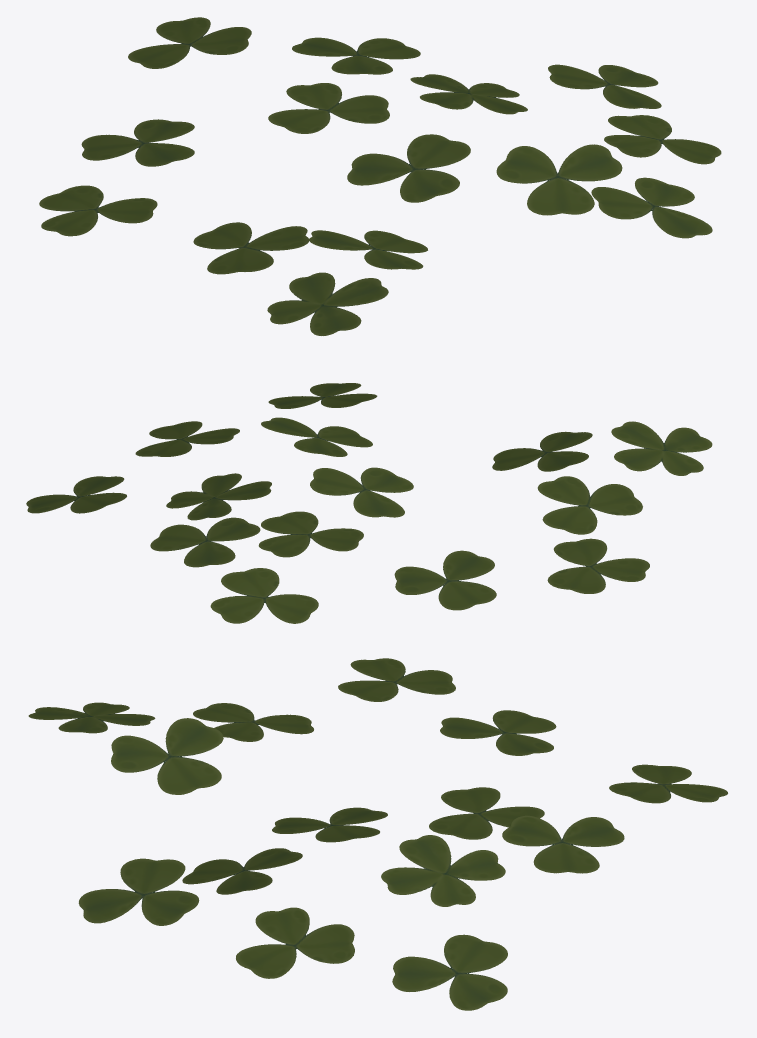
File: MSH_fwOF_Clover_03.fbx
3 renders of one model, top to bottom at view 1: azimuth 30°, elevation 25°; view 2: azimuth 150°, elevation 25°; view 3: azimuth 270°, elevation 25°, orthographic. The views are drawn at different scales.
Parts seen in each view (by area): view 1: MSH_fwOF_Clover_03; view 2: MSH_fwOF_Clover_03; view 3: MSH_fwOF_Clover_03.
Boxes of the visible parts, x1,y1,x2,y2 form: MSH_fwOF_Clover_03: (39, 17, 721, 335); MSH_fwOF_Clover_03: (26, 383, 712, 623); MSH_fwOF_Clover_03: (28, 658, 727, 1010).
Bounding box in the file's own units: 0.2812 × 0.0282 × 0.267.
